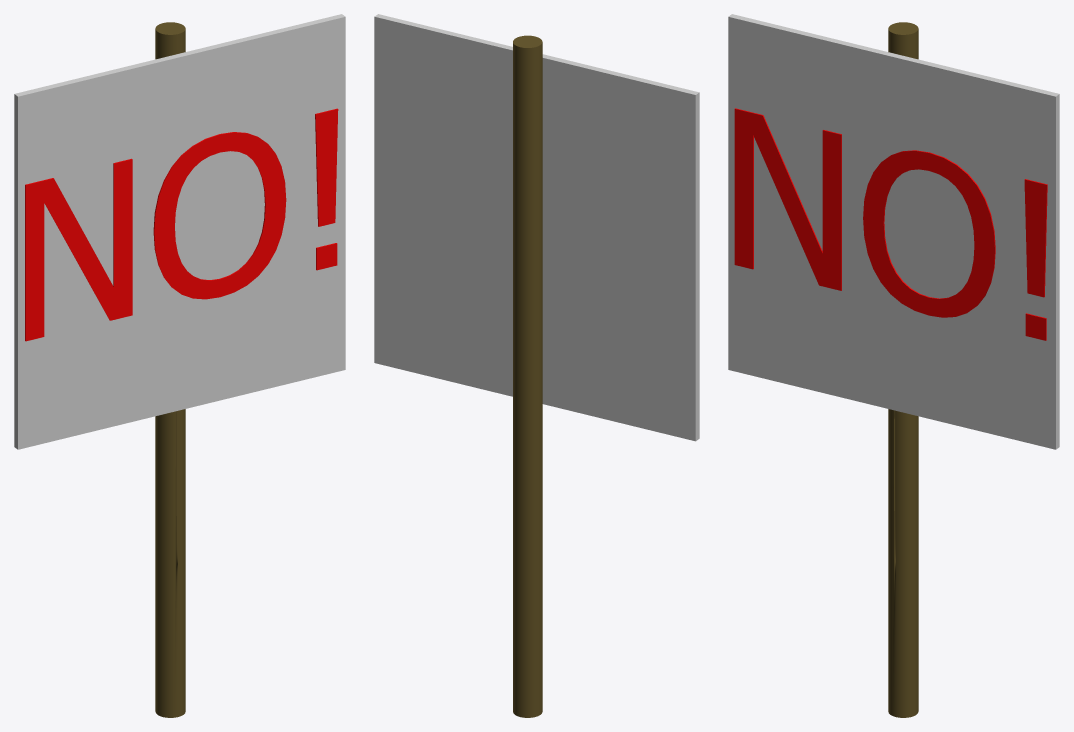
File: sign.fbx
The picture shows the model from 3 angles, left to right: view 1: azimuth 30°, elevation 25°; view 2: azimuth 150°, elevation 25°; view 3: azimuth 330°, elevation 25°; orthographic projection.
Visible parts, largest first — view 1: sign1, NO_1; view 2: sign1; view 3: sign1, NO_1.
Boxes of the visible parts, bbox=[...] form: sign1: bbox=[14, 14, 345, 717]; NO_1: bbox=[25, 108, 338, 341]; sign1: bbox=[374, 14, 699, 717]; sign1: bbox=[728, 14, 1059, 717]; NO_1: bbox=[734, 108, 1047, 340].
Bounding box in the file's own units: 31.31 × 62.38 × 3.25.
